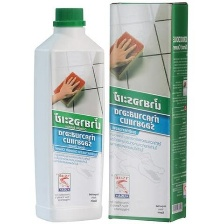book: (105, 0, 191, 224)
cleaning_solution: (30, 3, 105, 223)
